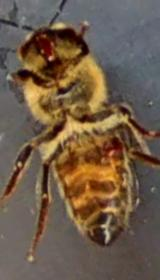varroa_mite: (93, 130, 132, 160)
